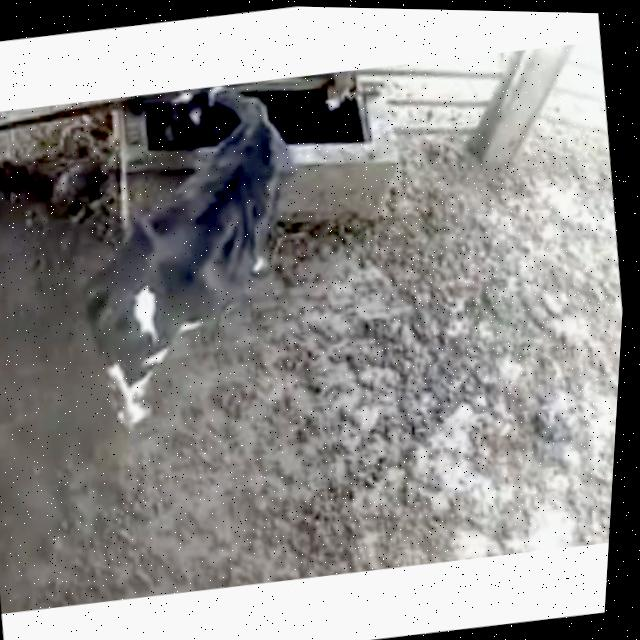drink: (138, 69, 335, 219)
